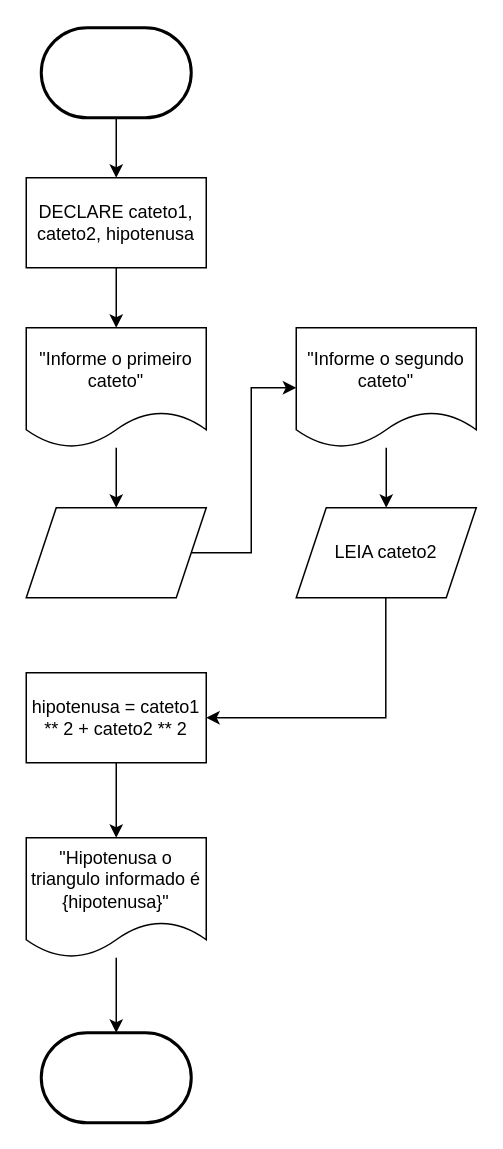
This 503x1149 diagram has some shape labels left out. Each missing label, with the box of its shape:
FIM: (39, 1030, 192, 1124)
INICIO: (39, 26, 192, 118)
LEIA cateto1: (25, 506, 206, 598)
